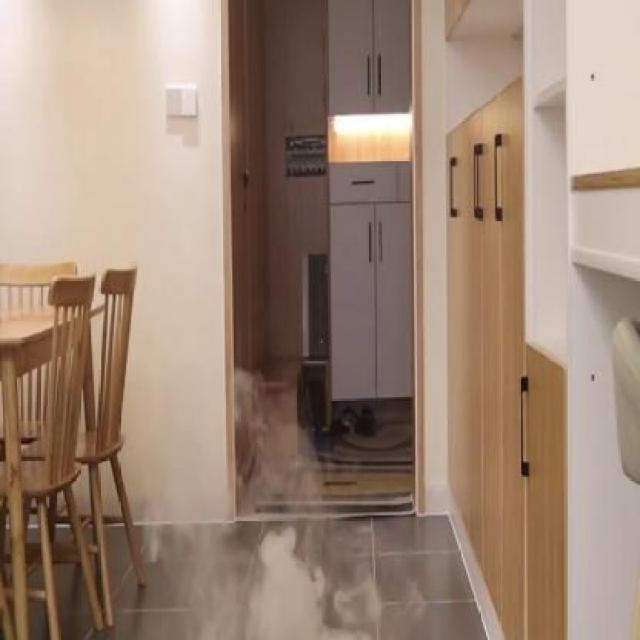fire: (334, 220, 388, 385), (382, 491, 427, 622)
smoke: (240, 60, 342, 346)
